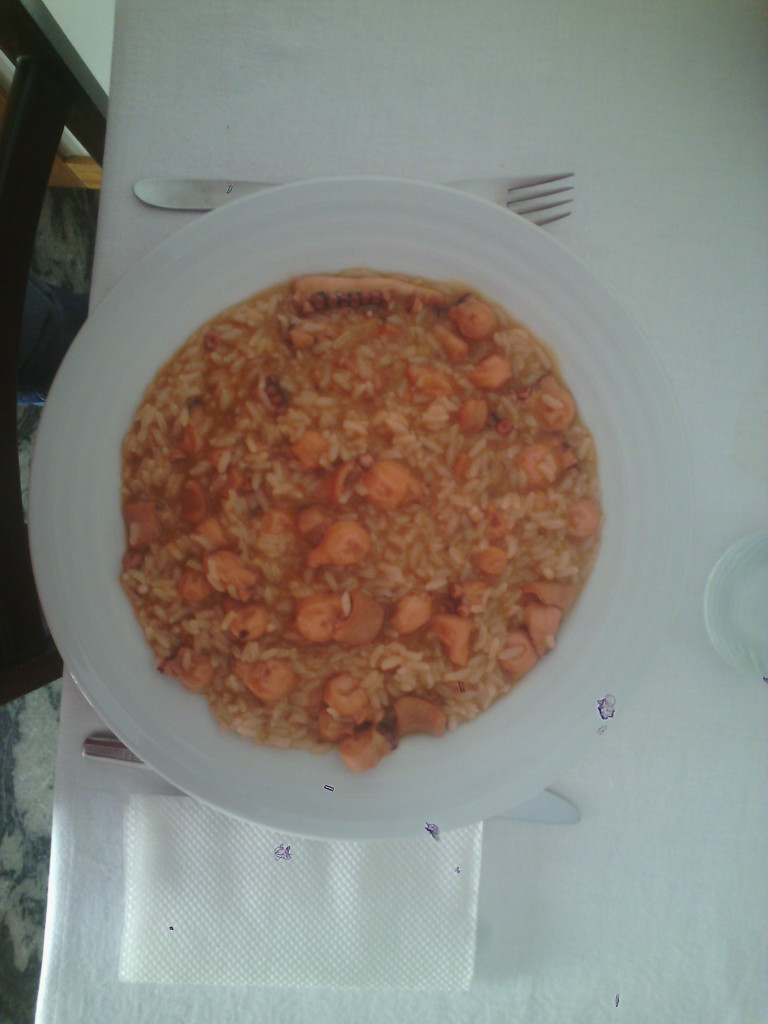81-100: (32, 176, 699, 843)
